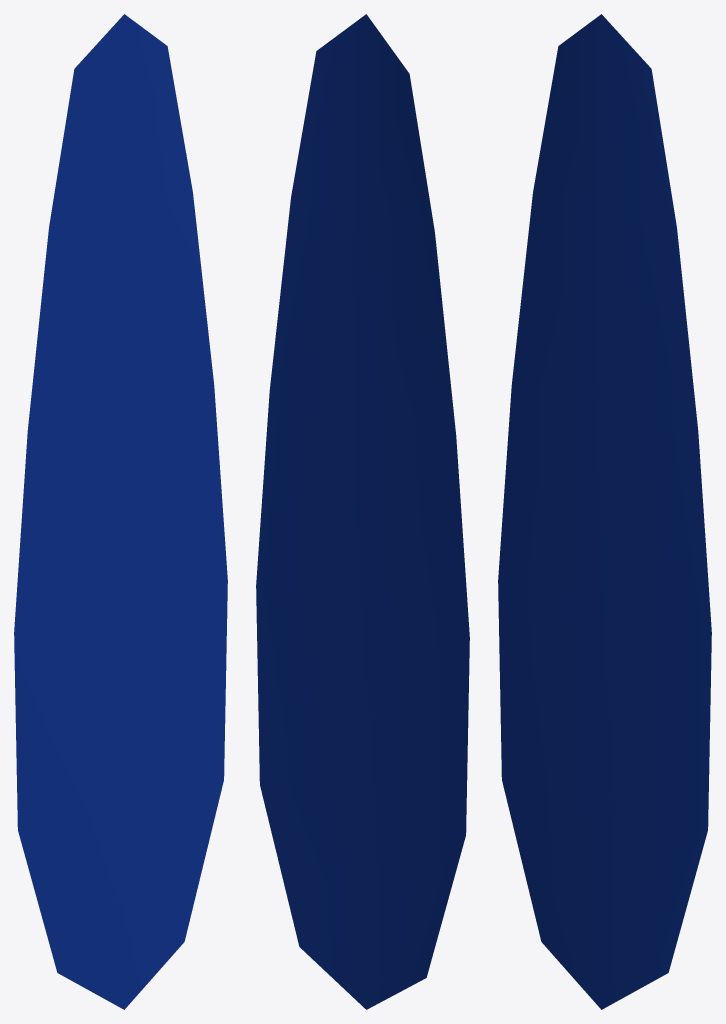
The model's file is budgie_feather_flight_primary_004.obj.
3 views of the same model, side by side, from view 1: azimuth 30°, elevation 25°; view 2: azimuth 150°, elevation 25°; view 3: azimuth 330°, elevation 25° (orthographic).
Visible parts, largest first — view 1: feather_flight_primary_004; view 2: feather_flight_primary_004; view 3: feather_flight_primary_004.
Part boxes in pixels (box(x1,y1,x2,y2)): feather_flight_primary_004: box(14, 14, 227, 1009); feather_flight_primary_004: box(256, 14, 469, 1009); feather_flight_primary_004: box(498, 14, 711, 1009).
Bounding box in the file's own units: 0.0116 × 0.0517 × 0.000322.
